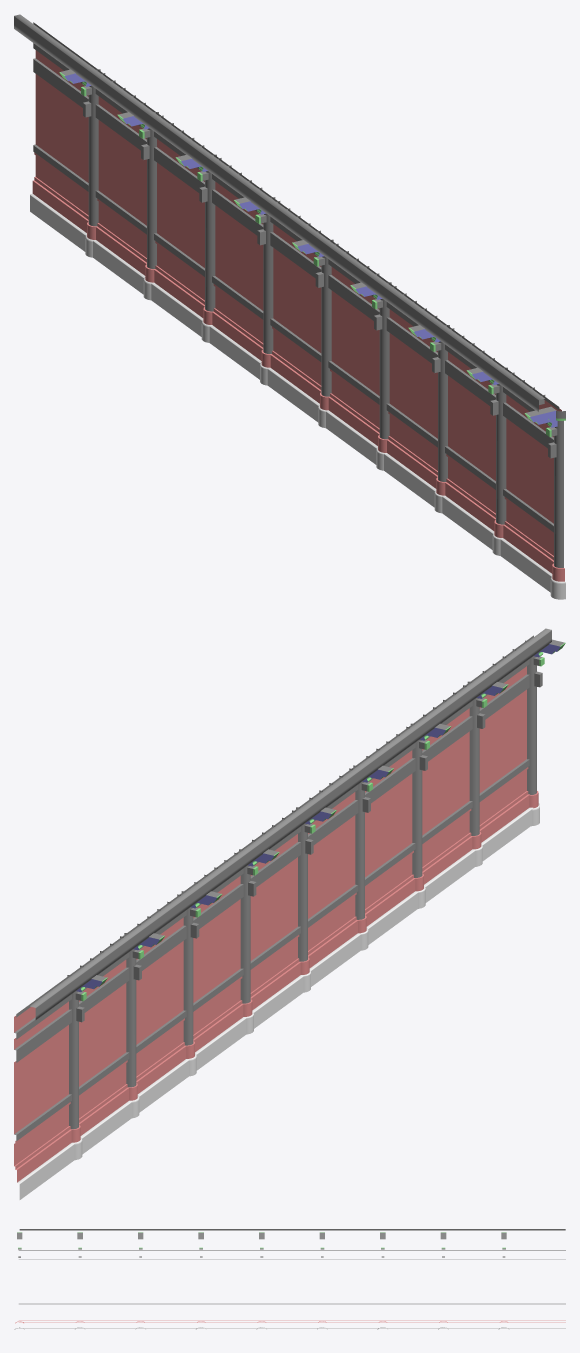
File: SM_ENV_KNVLLG03_Bridge_StraightB_2.gltf
The picture shows the model from 3 angles, top to bottom: view 1: azimuth 30°, elevation 25°; view 2: azimuth 150°, elevation 25°; view 3: azimuth 270°, elevation 25°; orthographic projection. The views are drawn at different scales.
Parts seen in each view (by area): view 1: SM_ENV_KNVLLG03_Bridge_StraightB_2; view 2: SM_ENV_KNVLLG03_Bridge_StraightB_2; view 3: SM_ENV_KNVLLG03_Bridge_StraightB_2.
Part boxes in pixels (bbox=[...]): SM_ENV_KNVLLG03_Bridge_StraightB_2: bbox=[14, 14, 565, 599]; SM_ENV_KNVLLG03_Bridge_StraightB_2: bbox=[14, 628, 565, 1199]; SM_ENV_KNVLLG03_Bridge_StraightB_2: bbox=[14, 1229, 565, 1329].
Size of the model in its own units: 1.09 by 6.21 by 29.77.
